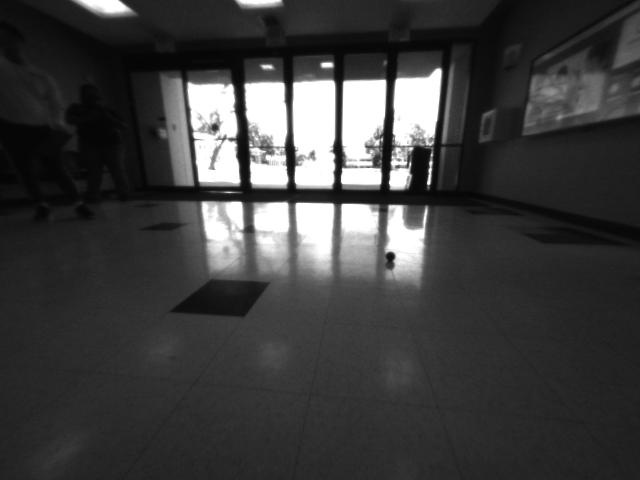dogtoy: (378, 246, 408, 270)
